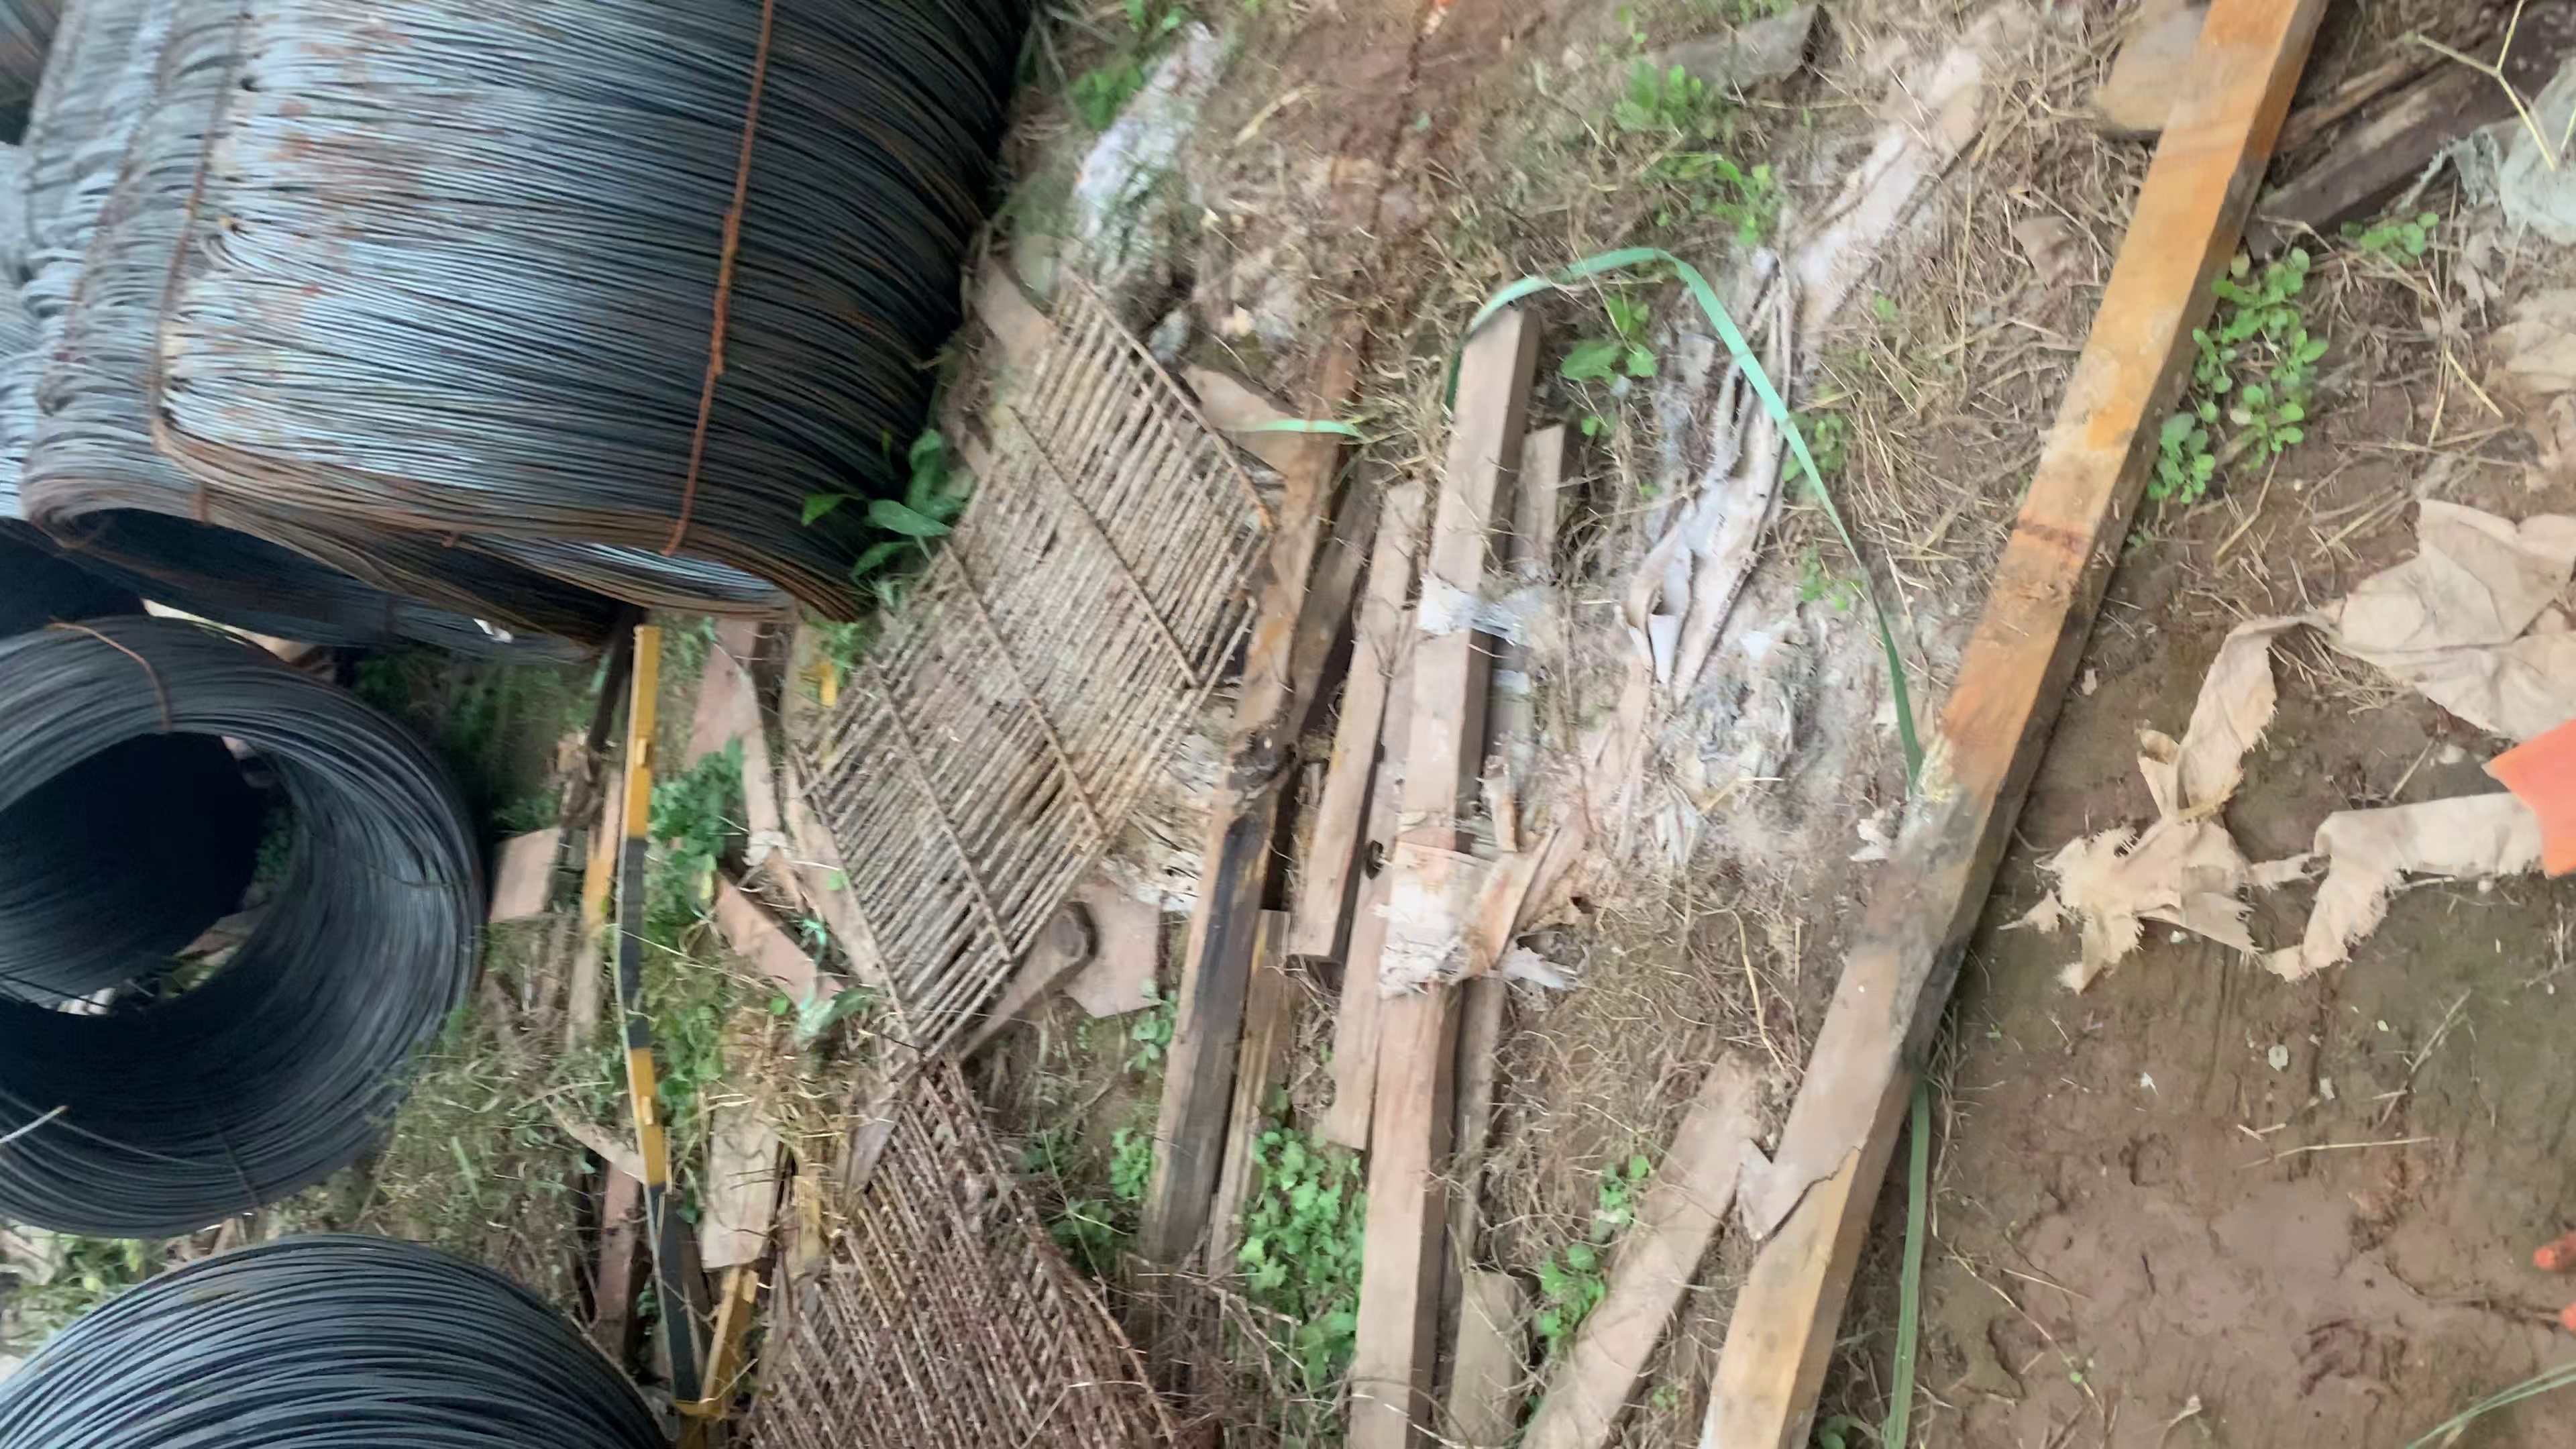coil: (0, 688, 483, 1230), (207, 387, 847, 644), (39, 476, 621, 692)
